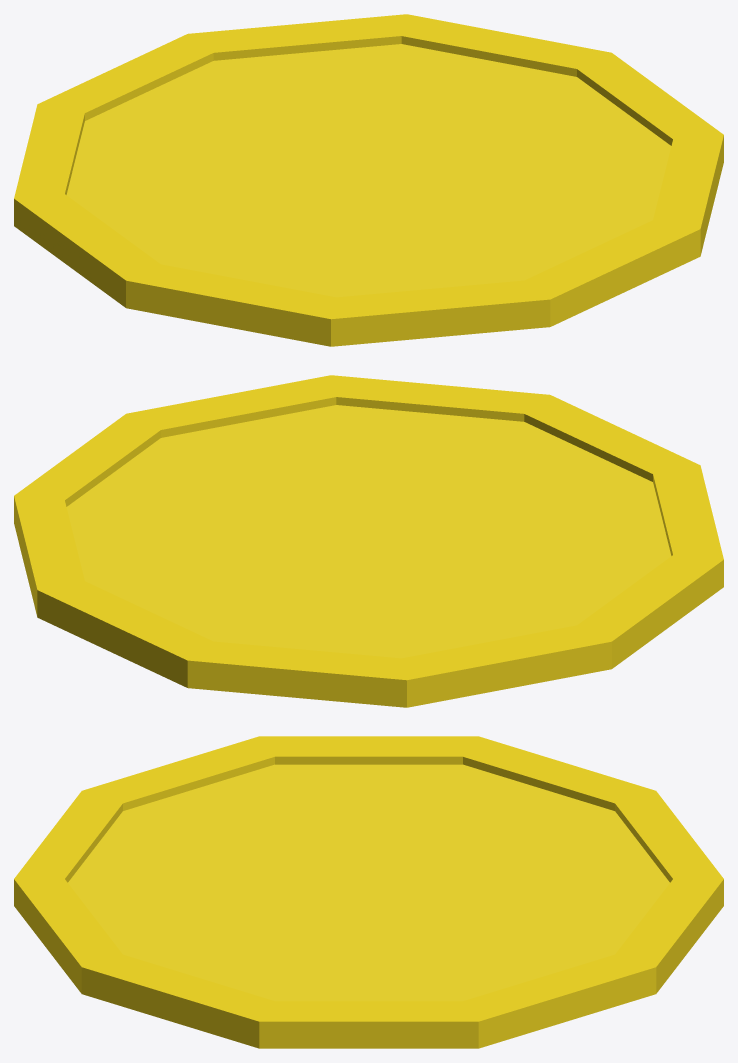
Rendered from moneda.fbx.
3 renders of one model, top to bottom at view 1: azimuth 30°, elevation 25°; view 2: azimuth 150°, elevation 25°; view 3: azimuth 270°, elevation 25°, orthographic. The views are drawn at different scales.
Parts seen in each view (by area): view 1: Circle.001, Circle; view 2: Circle.001, Circle; view 3: Circle.001, Circle.
Boxes of the visible parts, <box> form: Circle.001: <box>66,44,671,297</box>; Circle: <box>14,14,723,346</box>; Circle.001: <box>66,405,671,658</box>; Circle: <box>14,375,723,707</box>; Circle.001: <box>68,764,669,1001</box>; Circle: <box>14,736,723,1048</box>.
Bounding box in the file's own units: 190 × 8.38 × 200.
